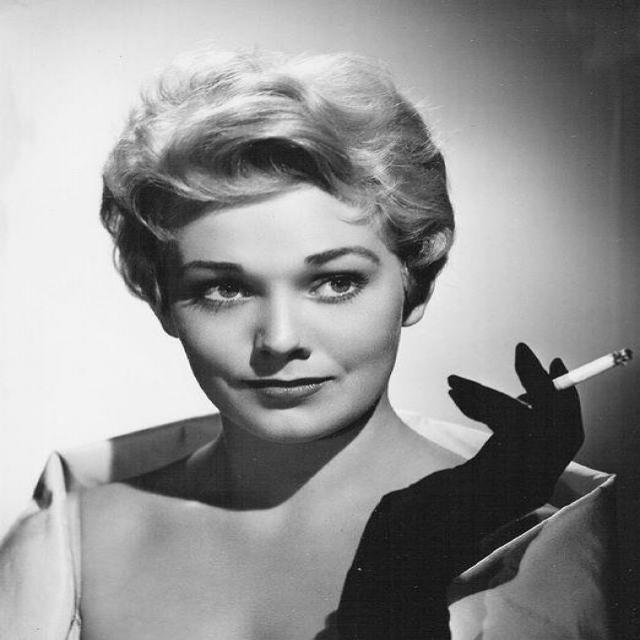Сигарета: (518, 348, 632, 407)
Тело: (11, 54, 587, 640)
